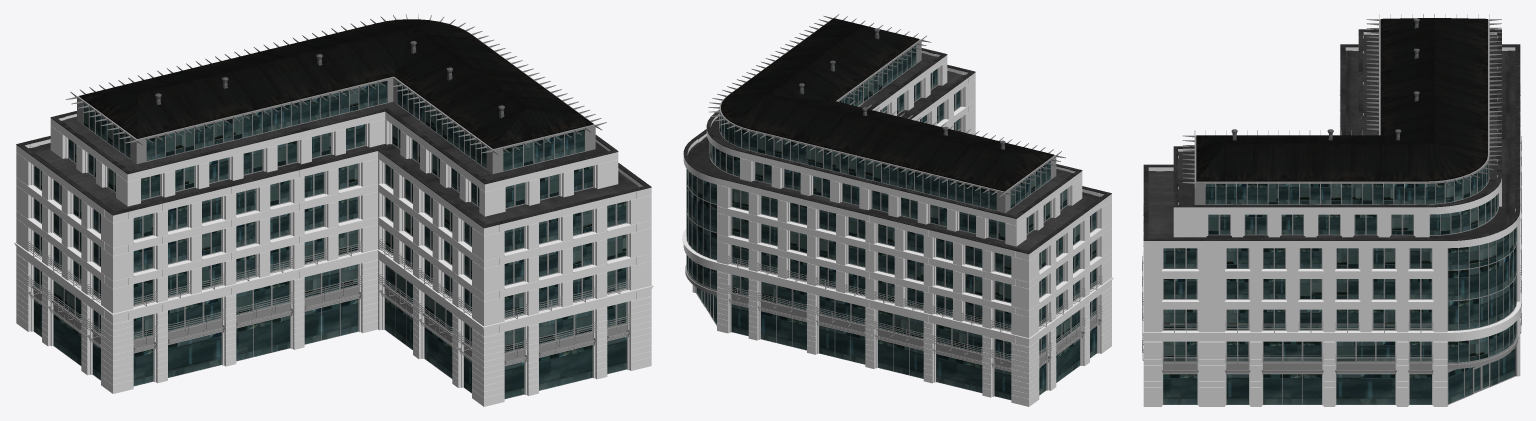
The model's file is building2.gltf.
3 renders of one model, left to right at view 1: azimuth 30°, elevation 25°; view 2: azimuth 150°, elevation 25°; view 3: azimuth 270°, elevation 25°, orthographic. The views are drawn at different scales.
Visible parts, largest first — view 1: Am203_33-Am203_33_mat_001, Am203_33-Am203_33_mat_004, Am203_33-Am203_33_mat_008, Am203_33-Am203_33_mat_007 (×2), Am203_33-Am203_33_mat_003, Am203_33-Am203_33_mat_002; view 2: Am203_33-Am203_33_mat_001, Am203_33-Am203_33_mat_004, Am203_33-Am203_33_mat_008, Am203_33-Am203_33_mat_007 (×2), Am203_33-Am203_33_mat_003, Am203_33-Am203_33_mat_002; view 3: Am203_33-Am203_33_mat_004, Am203_33-Am203_33_mat_001, Am203_33-Am203_33_mat_008, Am203_33-Am203_33_mat_007 (×2), Am203_33-Am203_33_mat_003, Am203_33-Am203_33_mat_002.
Boxes of the visible parts, x1=… form: Am203_33-Am203_33_mat_001: x1=14, y1=111, x2=653, y2=406; Am203_33-Am203_33_mat_004: x1=34, y1=81, x2=626, y2=398; Am203_33-Am203_33_mat_008: x1=79, y1=19, x2=593, y2=148; Am203_33-Am203_33_mat_007 (×2): x1=27, y1=14, x2=631, y2=399; Am203_33-Am203_33_mat_003: x1=29, y1=102, x2=638, y2=224; Am203_33-Am203_33_mat_002: x1=16, y1=108, x2=651, y2=228; Am203_33-Am203_33_mat_001: x1=682, y1=50, x2=1113, y2=406; Am203_33-Am203_33_mat_004: x1=687, y1=45, x2=1096, y2=399; Am203_33-Am203_33_mat_008: x1=721, y1=18, x2=1054, y2=191; Am203_33-Am203_33_mat_007 (×2): x1=685, y1=14, x2=1102, y2=400; Am203_33-Am203_33_mat_003: x1=687, y1=53, x2=1101, y2=250; Am203_33-Am203_33_mat_002: x1=683, y1=48, x2=1111, y2=254; Am203_33-Am203_33_mat_004: x1=1163, y1=161, x2=1516, y2=404; Am203_33-Am203_33_mat_001: x1=1142, y1=32, x2=1521, y2=406; Am203_33-Am203_33_mat_008: x1=1196, y1=18, x2=1487, y2=181; Am203_33-Am203_33_mat_007 (×2): x1=1142, y1=14, x2=1521, y2=405; Am203_33-Am203_33_mat_003: x1=1148, y1=34, x2=1515, y2=238; Am203_33-Am203_33_mat_002: x1=1143, y1=29, x2=1520, y2=240.
Size of what is drawn, in the model's own units: 3645 by 1988 by 2962.
Materials: 7 (5 with a texture image).
